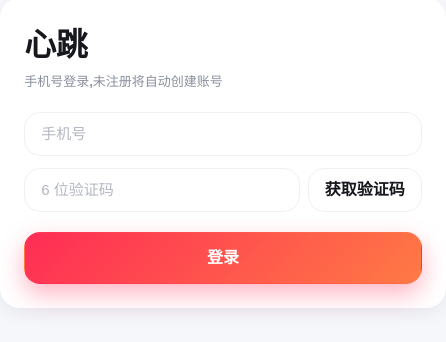
Test: LoginPage › 手机号格式不合法时不发码并给出提示
Type "138" into the field with placeholder "手机号" at (223, 134), box [24, 112, 422, 156]
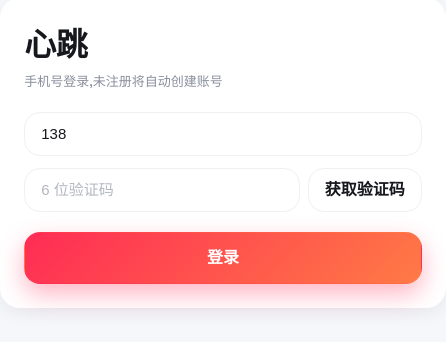
Click the button with class "login__send" at (365, 190), box [308, 168, 422, 212]
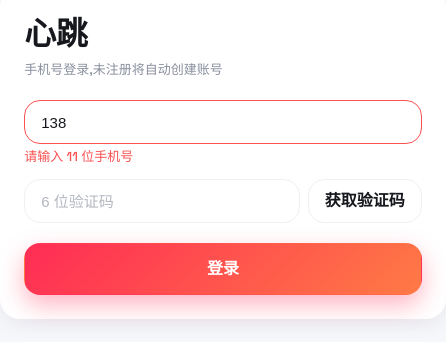
Result: the text "请输入 11 位手机号" is shown at [24, 148, 133, 165]
